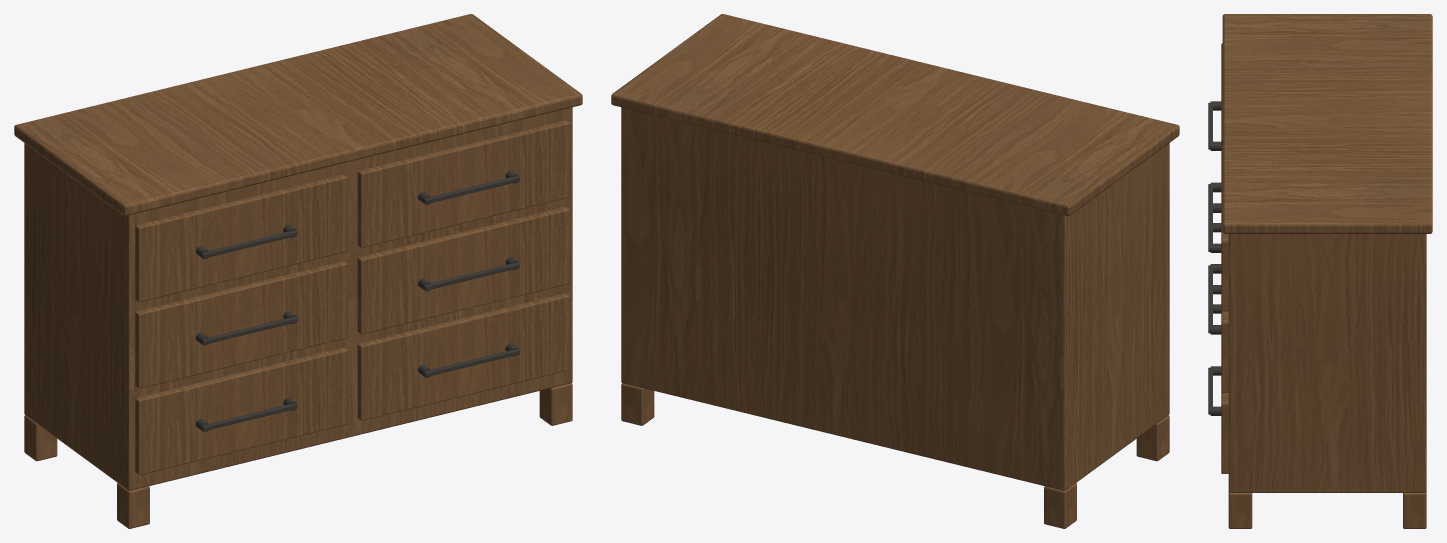
The model's file is oak_mission_dresser_procedural.gltf.
3 views of the same model, side by side, from view 1: azimuth 30°, elevation 25°; view 2: azimuth 150°, elevation 25°; view 3: azimuth 270°, elevation 25° (orthographic). The views are drawn at different scales.
Parts seen in each view (by area): view 1: top, carcass, drawer_front.001, drawer_front.005, drawer_front.003, drawer_front.002, drawer_front, drawer_front.004, leg, leg.002, leg.001, pull_bar.001 (+5 smaller); view 2: carcass, top, leg.001, leg.003, leg; view 3: carcass, top, leg.002, leg.003, drawer_front.005, drawer_front.001, drawer_front.003.
Boxes of the visible parts, x1,y1,x2,y2 form: top: (14,14,582,215); carcass: (24,107,572,490); drawer_front.001: (357,293,570,420); drawer_front.005: (357,120,570,247); drawer_front.003: (357,207,570,334); drawer_front.002: (135,261,347,388); drawer_front: (135,347,347,474); drawer_front.004: (135,174,347,302); leg: (117,483,149,528); leg.002: (539,383,572,425); leg.001: (24,415,57,461); pull_bar.001: (424,349,519,376); carcass: (621,107,1169,490); top: (611,14,1179,215); leg.001: (1044,483,1076,528); leg.003: (621,383,654,425); leg: (1136,415,1169,461); carcass: (1228,234,1426,492); top: (1222,14,1432,233); leg.002: (1228,492,1252,528); leg.003: (1403,492,1426,528); drawer_front.005: (1221,145,1228,311); drawer_front.001: (1221,392,1228,473); drawer_front.003: (1221,310,1228,392).
Size of the model in its own units: 1.26 by 0.86 by 0.566.
2 materials, 1 textured.
